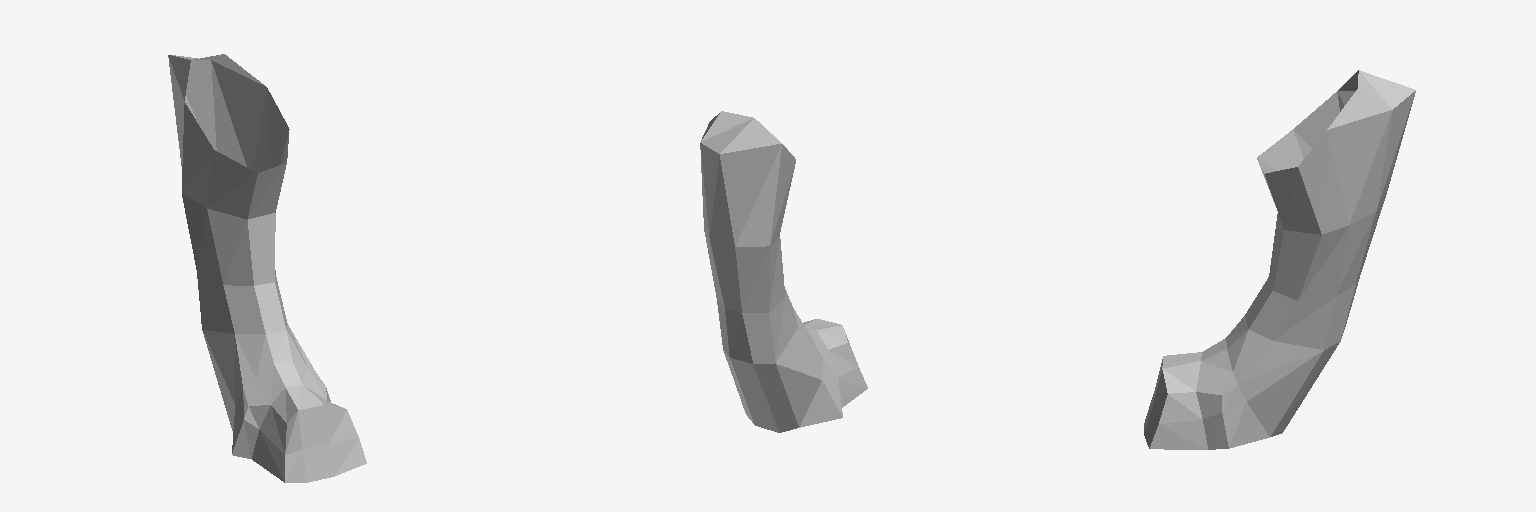
Rendered from 08B_back_right.obj.
3 views of the same model, side by side, from view 1: azimuth 30°, elevation 25°; view 2: azimuth 150°, elevation 25°; view 3: azimuth 270°, elevation 25° (orthographic).
Parts seen in each view (by area): view 1: polySurface13 WolfMesh; view 2: polySurface13 WolfMesh; view 3: polySurface13 WolfMesh.
Boxes of the visible parts, <box> form: polySurface13 WolfMesh: <box>168,54,366,482</box>; polySurface13 WolfMesh: <box>700,111,867,432</box>; polySurface13 WolfMesh: <box>1144,70,1415,449</box>.
Bounding box in the file's own units: 0.2647 × 0.8809 × 0.6282.